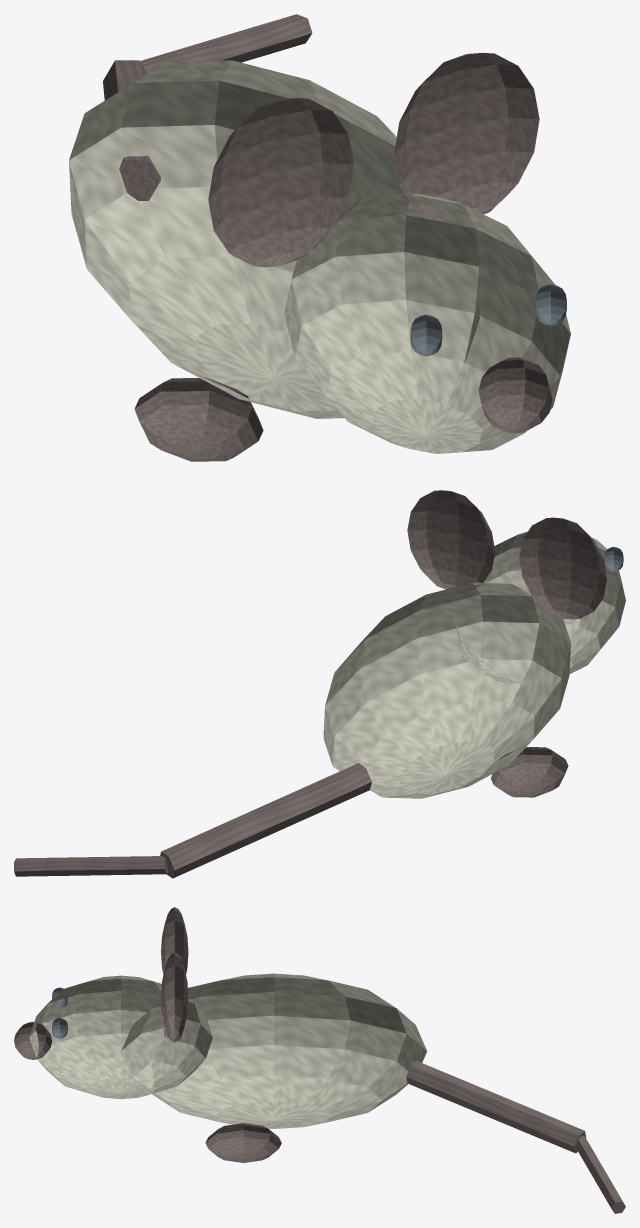
Rendered from lantern-watch-courtyard-rat__82.glb.
The picture shows the model from 3 angles, top to bottom: view 1: azimuth 30°, elevation 25°; view 2: azimuth 150°, elevation 25°; view 3: azimuth 270°, elevation 25°; orthographic projection. The views are drawn at different scales.
Visible parts, largest first — view 1: lantern-watch-courtyard-rat; view 2: lantern-watch-courtyard-rat; view 3: lantern-watch-courtyard-rat.
Part boxes in pixels (left/top/right/bottom): lantern-watch-courtyard-rat: left=69, top=14, right=570, bottom=461; lantern-watch-courtyard-rat: left=14, top=490, right=625, bottom=878; lantern-watch-courtyard-rat: left=14, top=907, right=625, bottom=1213.
Bounding box in the file's own units: 0.408 × 0.287 × 0.7995.
3 materials, 2 textured.
